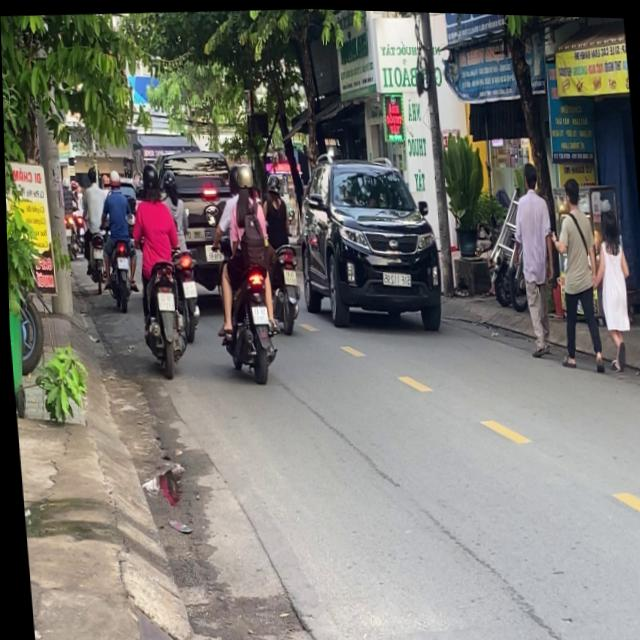helmet: (139, 161, 163, 201), (225, 163, 241, 196), (161, 167, 177, 197), (237, 162, 254, 190), (265, 170, 281, 195), (107, 169, 120, 190)
licenseplate: (204, 157, 280, 382), (128, 157, 190, 374), (159, 158, 201, 347), (258, 168, 304, 333), (97, 166, 141, 309)
nohelmet: (250, 303, 267, 323), (156, 291, 173, 310), (181, 280, 196, 297), (282, 267, 296, 285), (115, 256, 127, 269)
